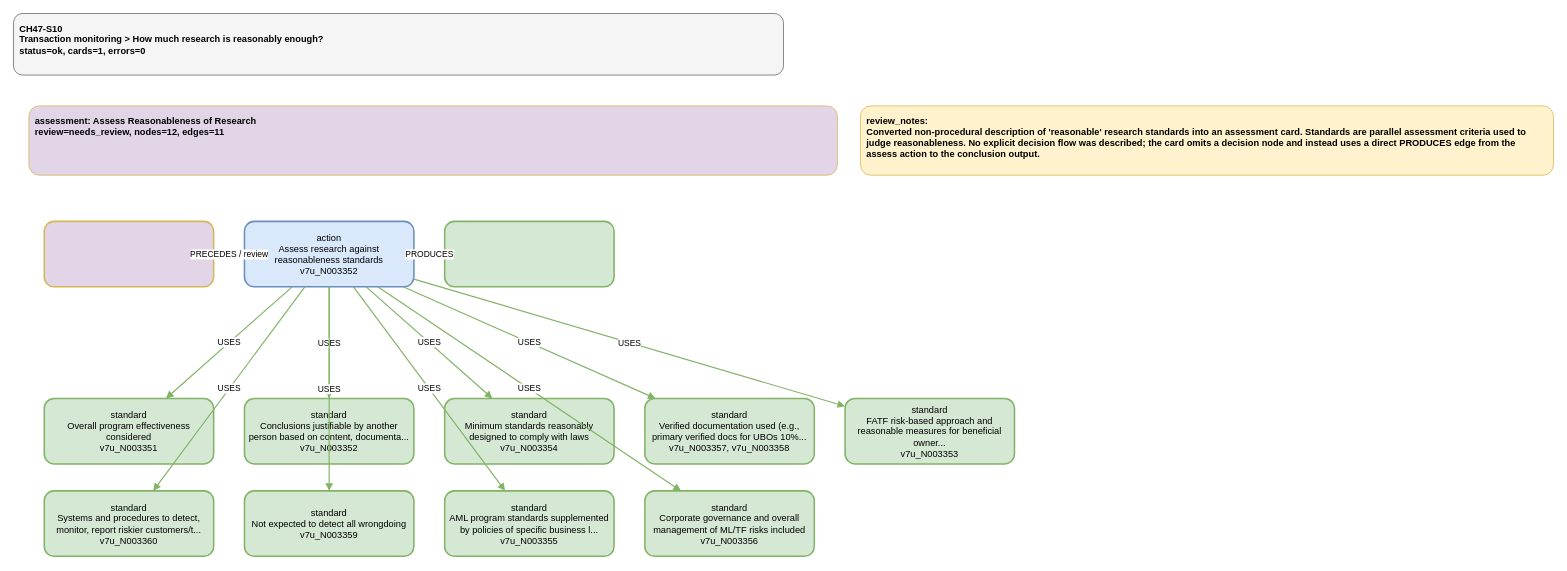
This 1567x571 diagram has some shape labels left out. Here are the shapes that lost their labels. From the top down, the centre of each, then its label:
(x=128, y=253): start Evaluate reasonableness of research v7u_N003349, v7u_N003351
(x=529, y=253): output Research reasonableness conclusion v7u_N003352, v7u_N003358
